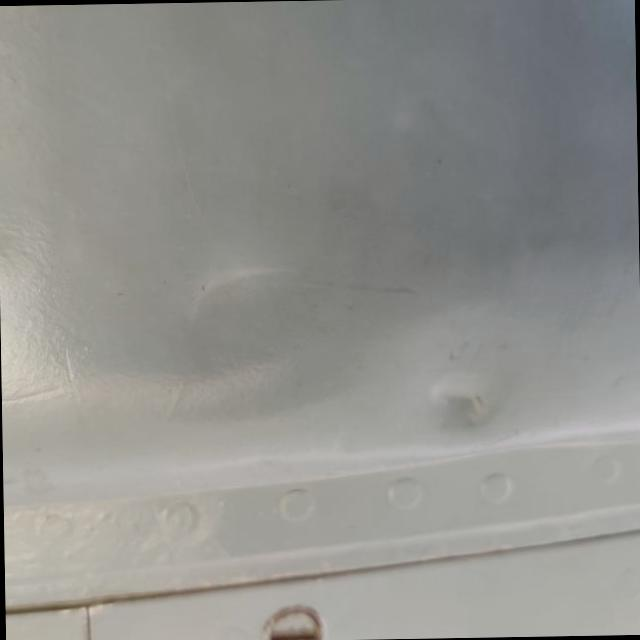dent: (150, 238, 333, 359), (400, 354, 521, 452)
